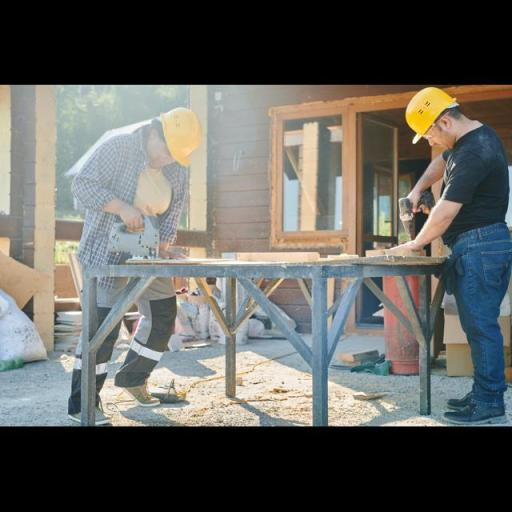Person: (47, 95, 223, 431), (381, 85, 512, 421)
boots: (114, 354, 172, 409), (60, 371, 116, 426), (440, 384, 512, 424)
helmet: (399, 85, 459, 148), (160, 108, 208, 170)
none: (60, 125, 198, 273), (429, 118, 511, 252), (388, 181, 434, 227), (148, 232, 194, 278), (380, 231, 426, 276), (102, 193, 148, 238)
